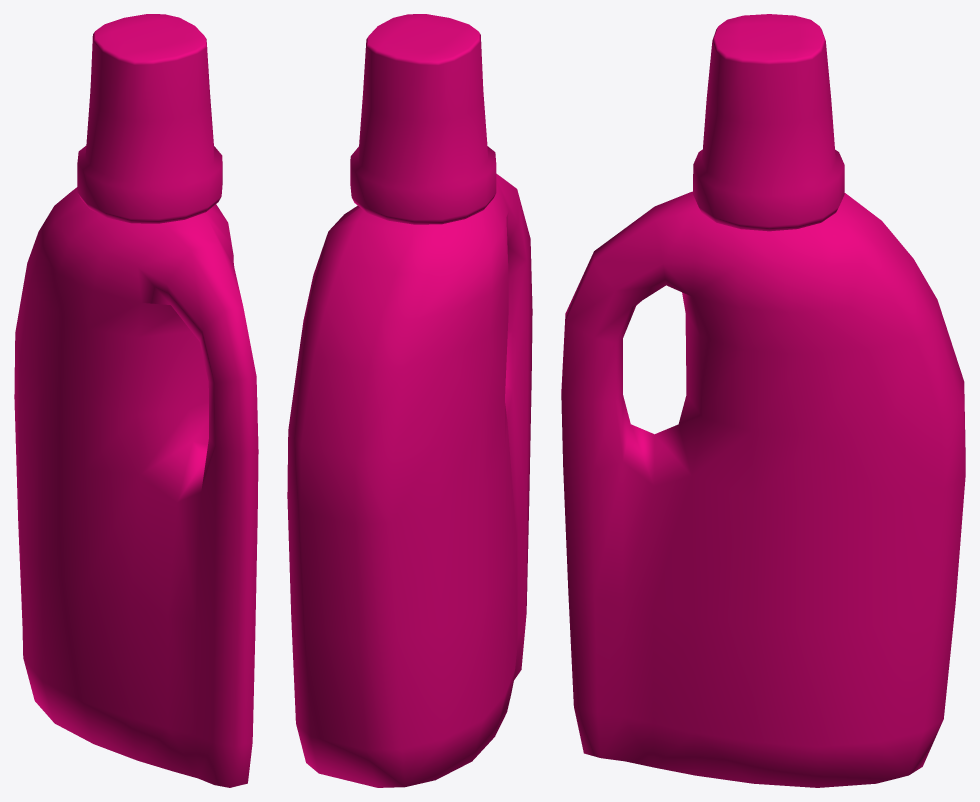
Rendered from Household_04_Lod0.fbx.
The picture shows the model from 3 angles, left to right: view 1: azimuth 30°, elevation 25°; view 2: azimuth 150°, elevation 25°; view 3: azimuth 270°, elevation 25°; orthographic projection. The views are drawn at different scales.
Parts seen in each view (by area): view 1: Household_04_Lod0; view 2: Household_04_Lod0; view 3: Household_04_Lod0.
Part boxes in pixels (bbox=[...]): Household_04_Lod0: bbox=[14, 14, 258, 787]; Household_04_Lod0: bbox=[287, 14, 532, 787]; Household_04_Lod0: bbox=[561, 14, 965, 787].
Size of the model in its own units: 9.19 by 36.34 by 18.58.
